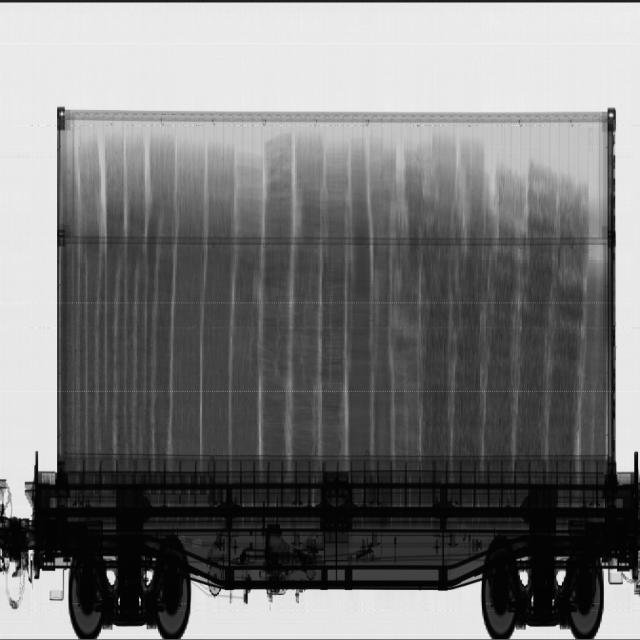textiles: (63, 127, 603, 454)
